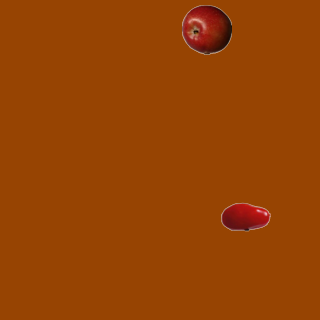Apple Braeburn: (181, 4, 231, 54)
Tomato 2: (220, 191, 270, 241)
